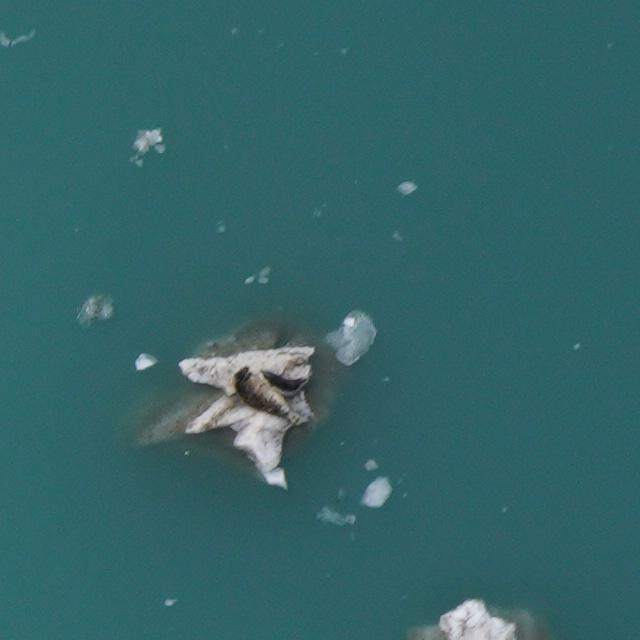seal: (226, 364, 301, 436), (260, 371, 309, 398)
